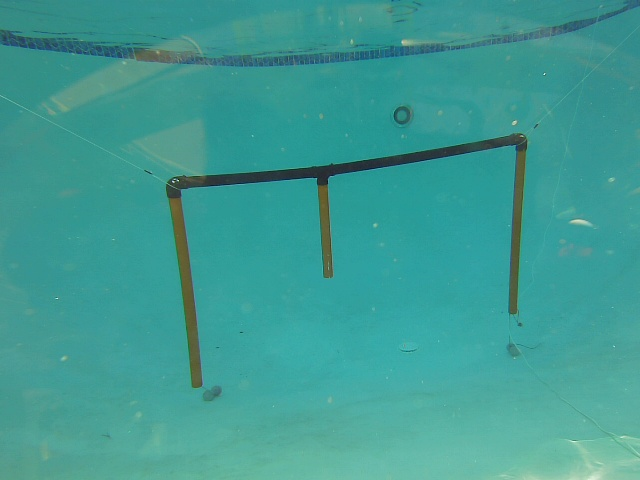Gate: (167, 190, 207, 394), (505, 145, 531, 317), (316, 184, 336, 283)
